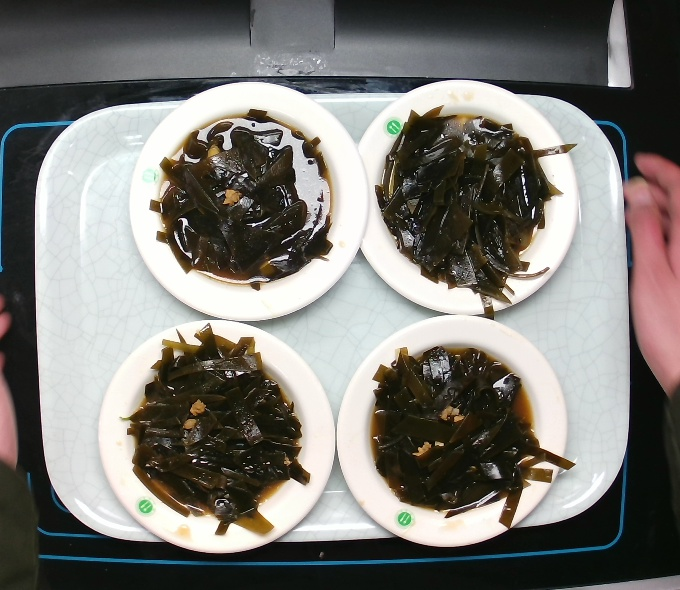wcq-HaiDai: (130, 321, 305, 532), (353, 336, 558, 515), (368, 97, 555, 289), (152, 108, 339, 291)
